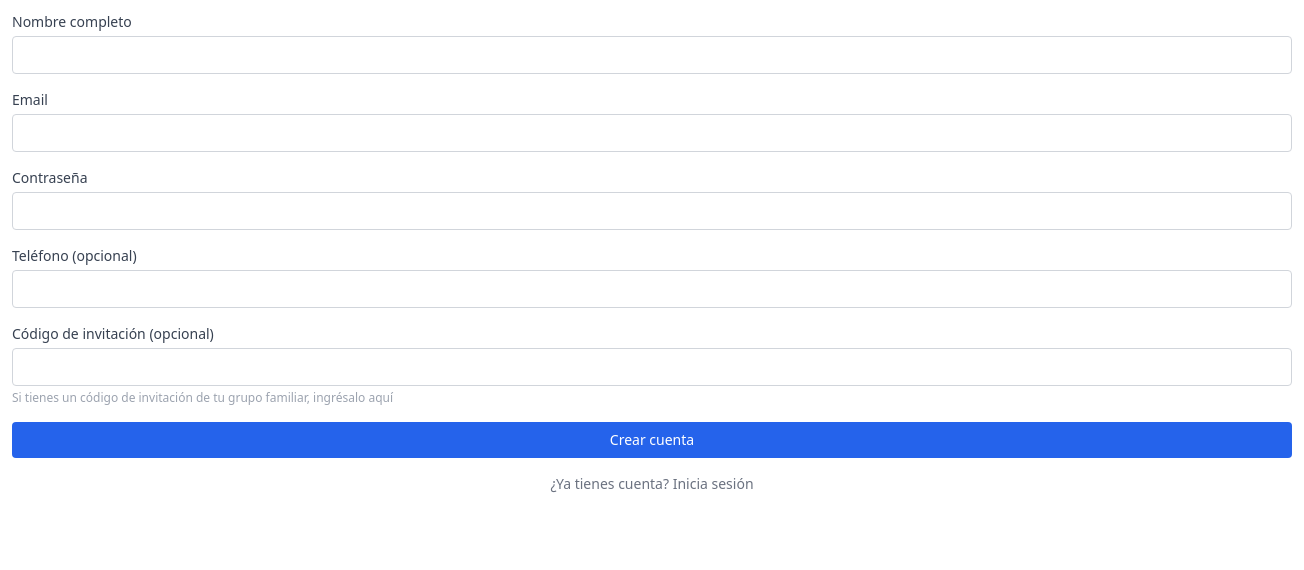
RegisterPage › shows error on EMAIL_ALREADY_EXISTS
Type "Test User" into the field labelled "Nombre completo" at (652,55), box [12, 36, 1292, 74]
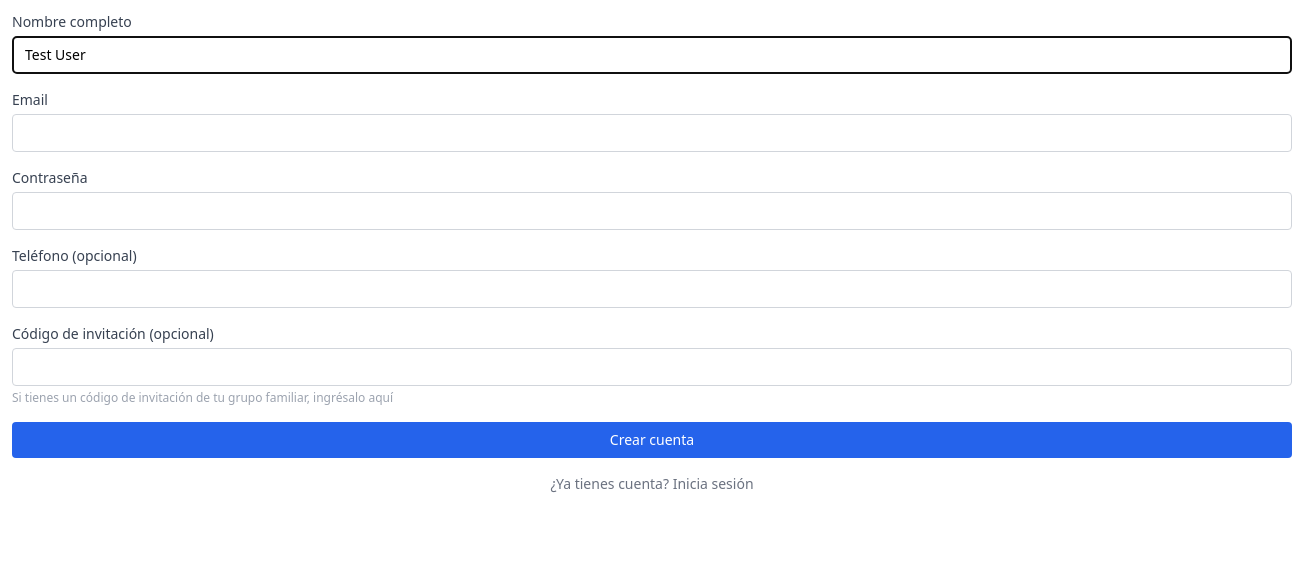
Type "taken@example.com" into the field labelled "Email" at (652,133), box [12, 114, 1292, 152]
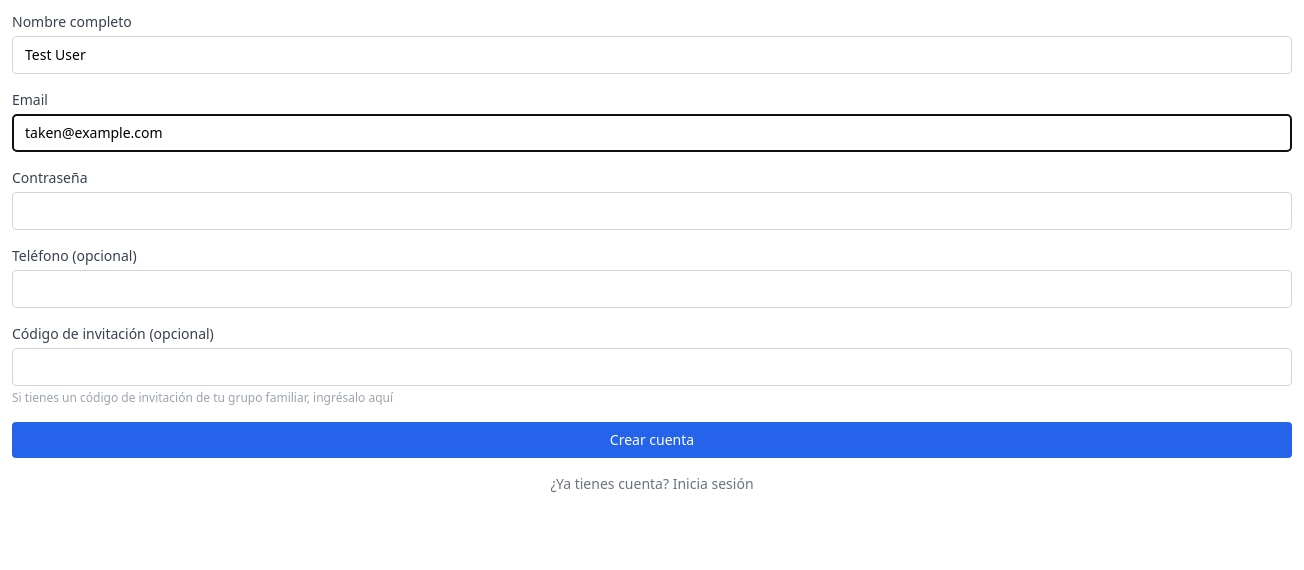
Type "password123" into the password field labelled "Contraseña" at (652,211), box [12, 192, 1292, 230]
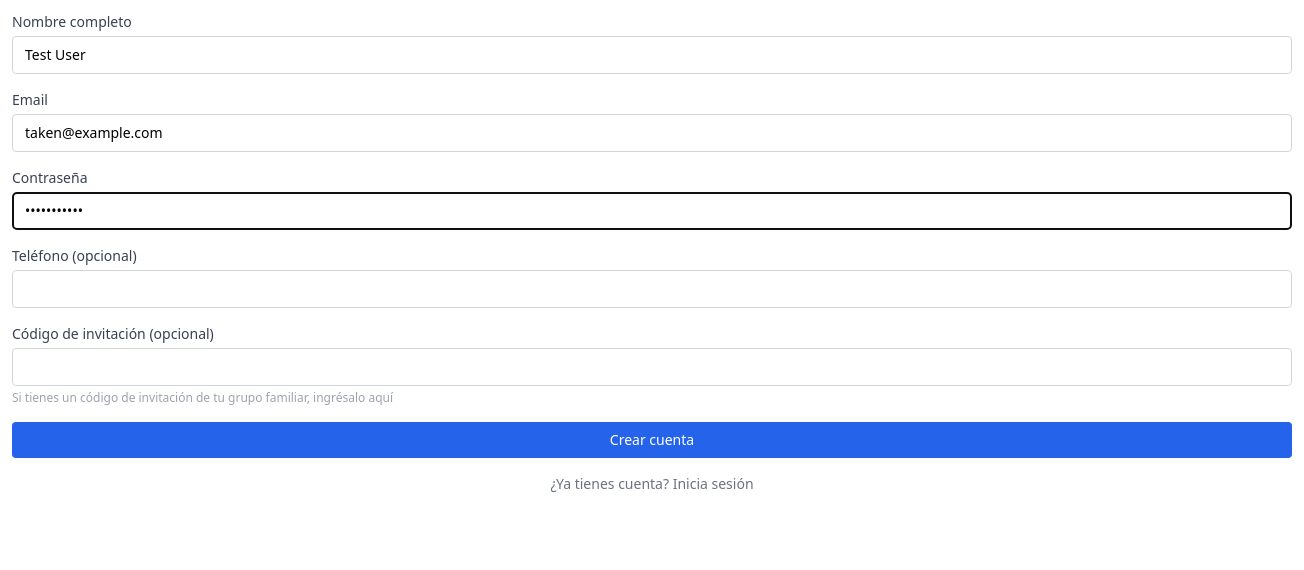
Click the button "Crear cuenta" at (652,440), box [12, 422, 1292, 458]
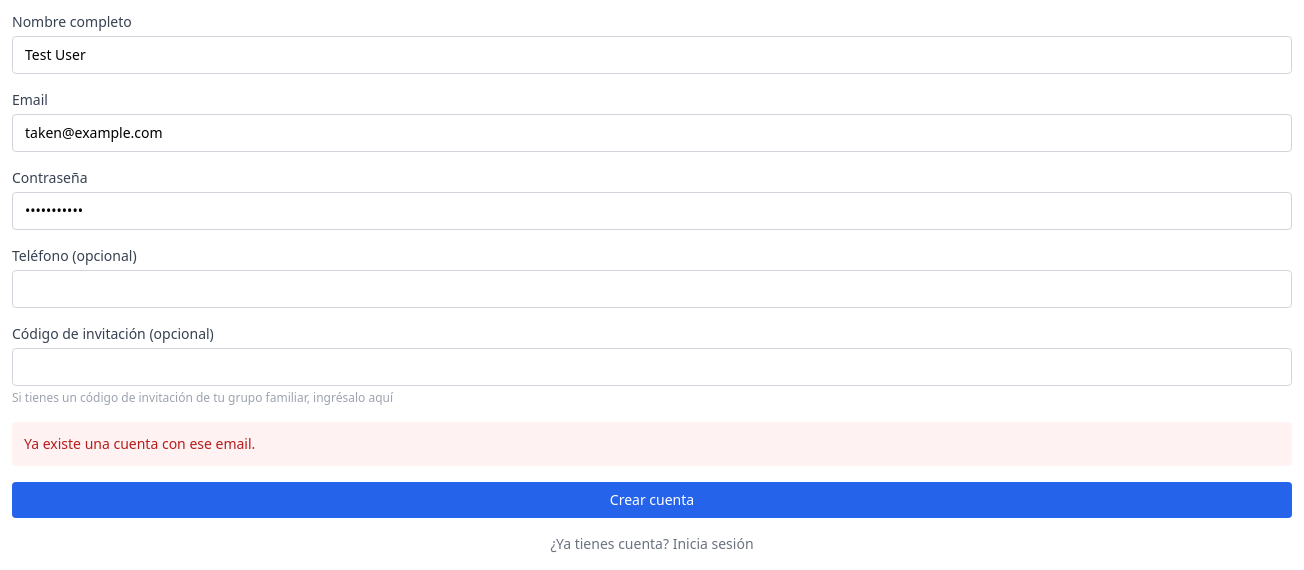
Now the text "Ya existe una cuenta con ese email." is shown, box [12, 422, 1292, 466]
